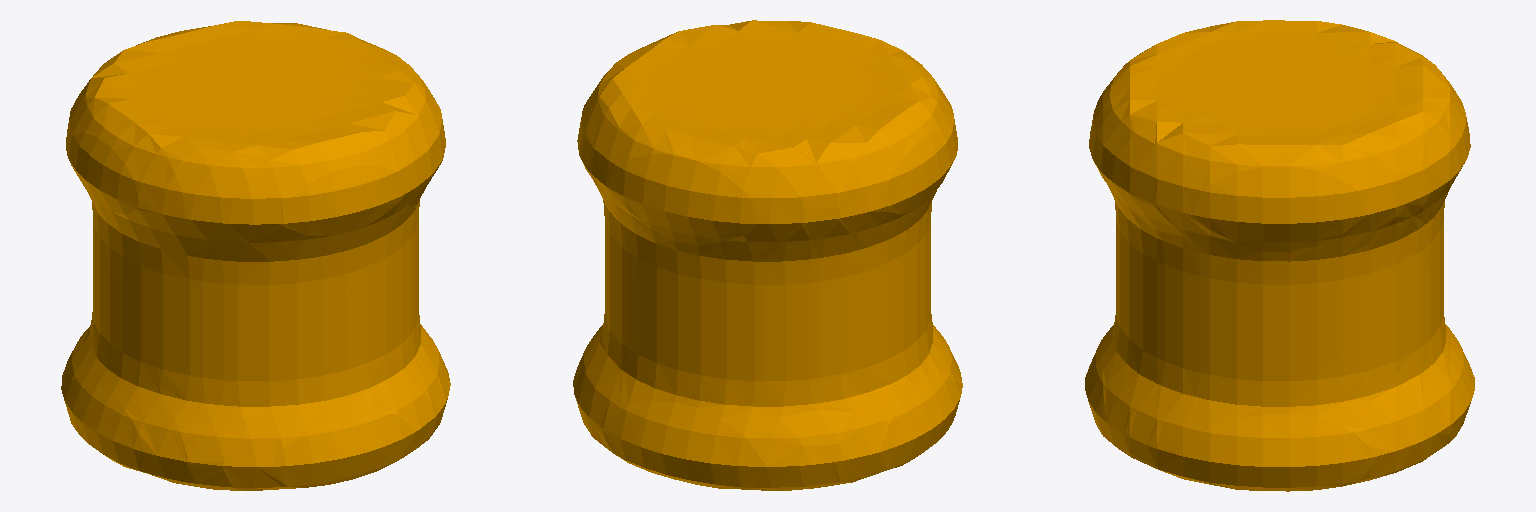
URDF robot description (cylinder_../../meshes/cylinders/cylinder_45.stl):
<?xml version="1.0" encoding="utf-8"?>  <robot name="cylinder_../../meshes/cylinders/cylinder_45.stl">   <link name="cylinder_../../meshes/cylinders/cylinder_45.stl">     <visual>       <geometry>         <mesh filename="../meshes/cylinders/cylinder_45.stl" scale="1 1 1"/>       </geometry>     </visual>     <collision>       <geometry>         <mesh filename="../meshes/cylinders/cylinder_45.stl" scale="1 1 1"/>       </geometry>     </collision>     <inertial>        <origin         xyz="0 0 0"         rpy="0 0 0" />       <mass value="0.22503048401032463"/>       <origin rpy="0 0 0" xyz="0 0 0"/>       <inertia ixx="0.0001537227662861137" ixy="-2.9027877330922022e-08" ixz="2.9436704188407215e-08" iyy="0.00015372362710014108" iyz="2.301391633156449e-08" izz="0.0001237435672106904"/>     </inertial>   </link>  </robot>

--- What the picture shows (computed from the rendered views, not written in the file) ---
3 views of the same robot in one strip: view 1: azimuth 30°, elevation 25°; view 2: azimuth 150°, elevation 25°; view 3: azimuth 270°, elevation 25° (orthographic).
Model cylinder_../../meshes/cylinders/cylinder_45.stl with 1 links and 0 joints (none), rooted at cylinder_../../meshes/cylinders/cylinder_45.stl, posed every joint at zero.
Visible links, largest first — view 1: cylinder_../../meshes/cylinders/cylinder_45.stl; view 2: cylinder_../../meshes/cylinders/cylinder_45.stl; view 3: cylinder_../../meshes/cylinders/cylinder_45.stl.
Link boxes in pixels (left/top/right/bottom): cylinder_../../meshes/cylinders/cylinder_45.stl: left=61, top=21, right=450, bottom=490; cylinder_../../meshes/cylinders/cylinder_45.stl: left=573, top=20, right=962, bottom=490; cylinder_../../meshes/cylinders/cylinder_45.stl: left=1085, top=20, right=1474, bottom=491.
Size in the robot's own frame: 0.0732 by 0.0732 by 0.0697 metres.
Meshes: 1 distinct files referenced, 1 mesh visuals loaded (1 binary STL).